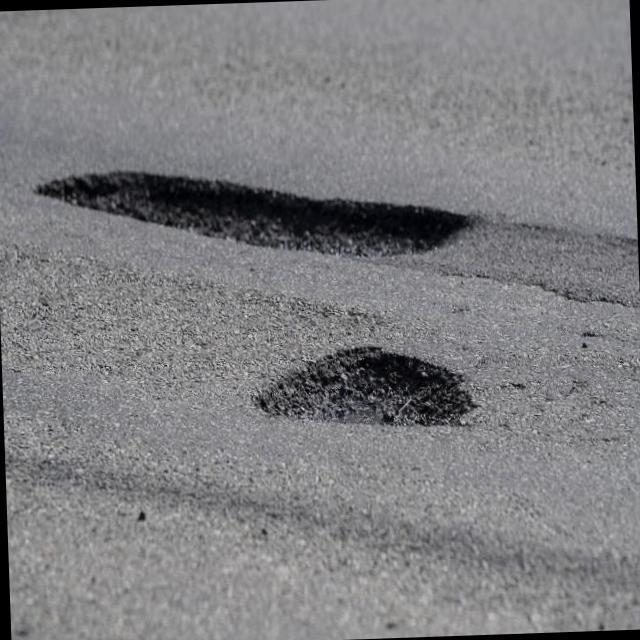Pothole: (37, 171, 471, 257), (254, 345, 474, 423)
